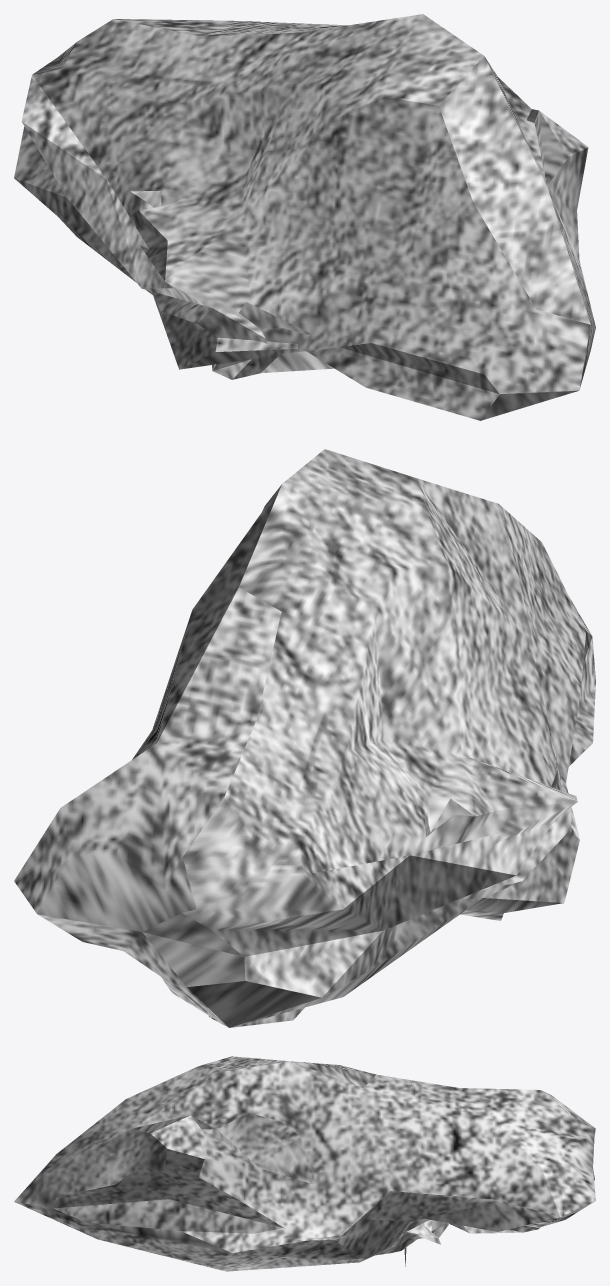
Rendered from Rock_Asset_10.fbx.
3 renders of one model, top to bottom at view 1: azimuth 30°, elevation 25°; view 2: azimuth 150°, elevation 25°; view 3: azimuth 270°, elevation 25°, orthographic. The views are drawn at different scales.
Visible parts, largest first — view 1: Rock_Asset; view 2: Rock_Asset; view 3: Rock_Asset.
Boxes of the visible parts, box(x1,y1,x2,y2) form: Rock_Asset: box(14, 14, 595, 420); Rock_Asset: box(14, 449, 595, 1027); Rock_Asset: box(14, 1056, 595, 1271).
Bounding box in the file's own units: 1.21 × 1.19 × 2.63.
Materials: 1 (1 with a texture image).
